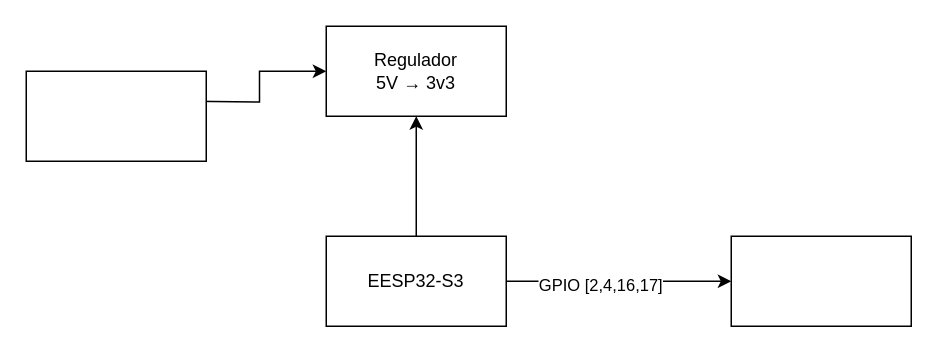
This 938x353 diagram has some shape labels left out. The shapes that lost their labels are listed below. From the top down, each one's centre as x and y in pixels, then its label:
point (115, 115): Fonte 5V
point (820, 280): Leds
